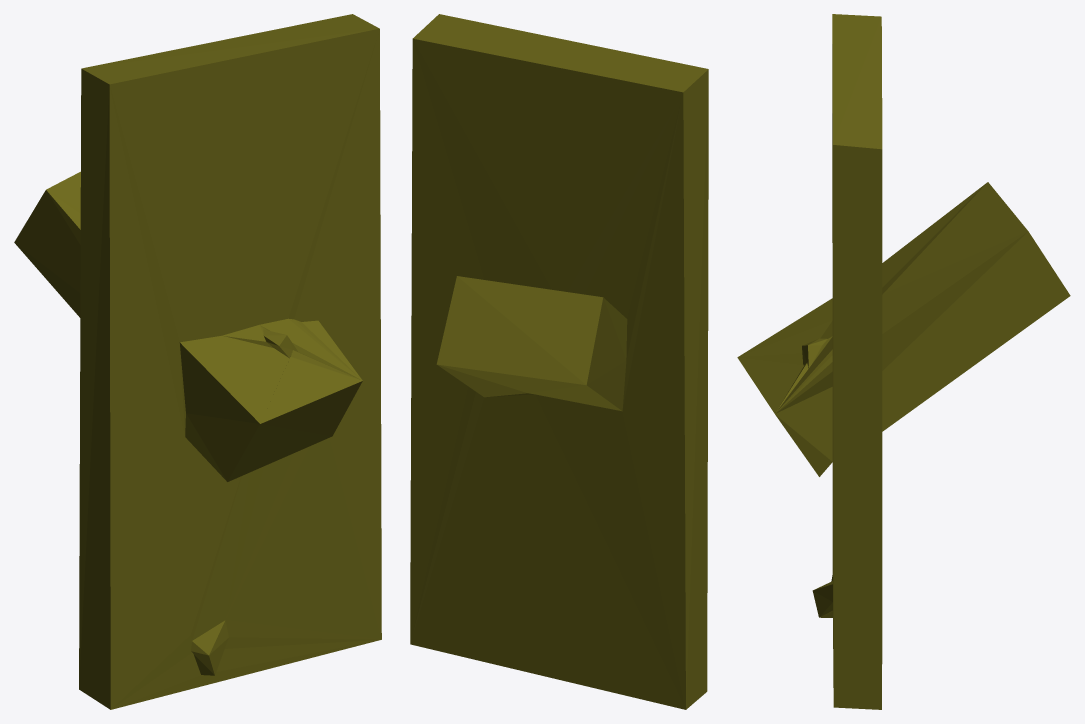
3 renders of one model, left to right at view 1: azimuth 30°, elevation 25°; view 2: azimuth 150°, elevation 25°; view 3: azimuth 270°, elevation 25°, orthographic. The views are drawn at different scales.
Visible parts, largest first — view 1: 008_Cube.044; view 2: 008_Cube.044; view 3: 008_Cube.044.
Part boxes in pixels (x1,y1,x2,y2): 008_Cube.044: [14, 14, 381, 709]; 008_Cube.044: [410, 14, 708, 709]; 008_Cube.044: [737, 14, 1070, 709].
Bounding box in the file's own units: 5.66 × 12.23 × 6.43.
